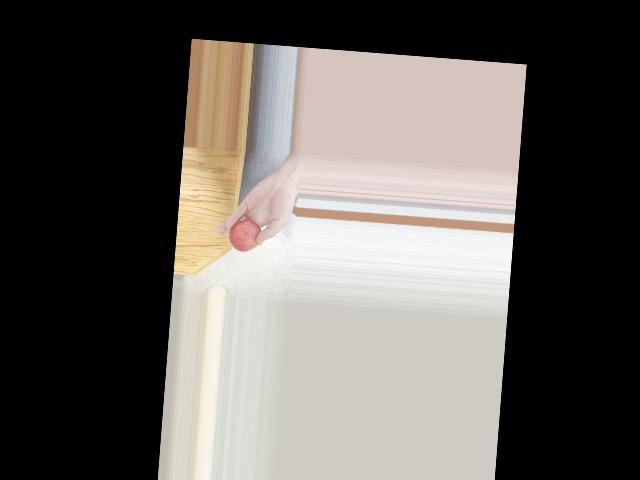apple: (228, 216, 262, 252)
